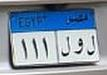1: (41, 36, 50, 60), (20, 37, 29, 60), (31, 37, 39, 60)
laam: (60, 35, 71, 57), (86, 33, 96, 56)
waw: (73, 36, 83, 56)
